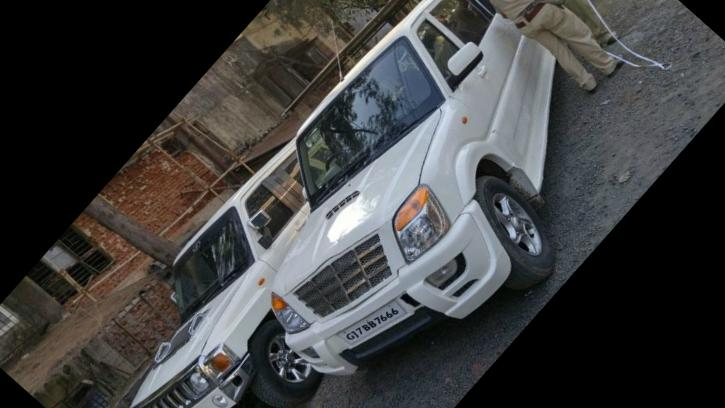plate: (325, 275, 421, 373)
